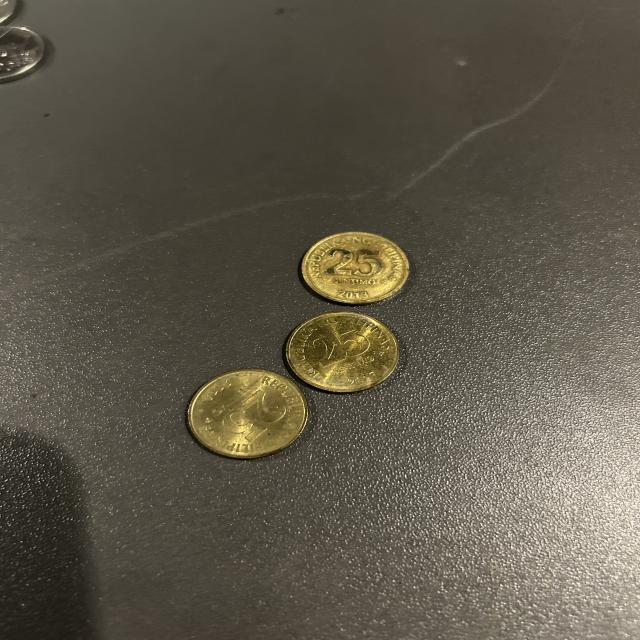25Cent_Old_Front: (296, 321, 385, 387)
